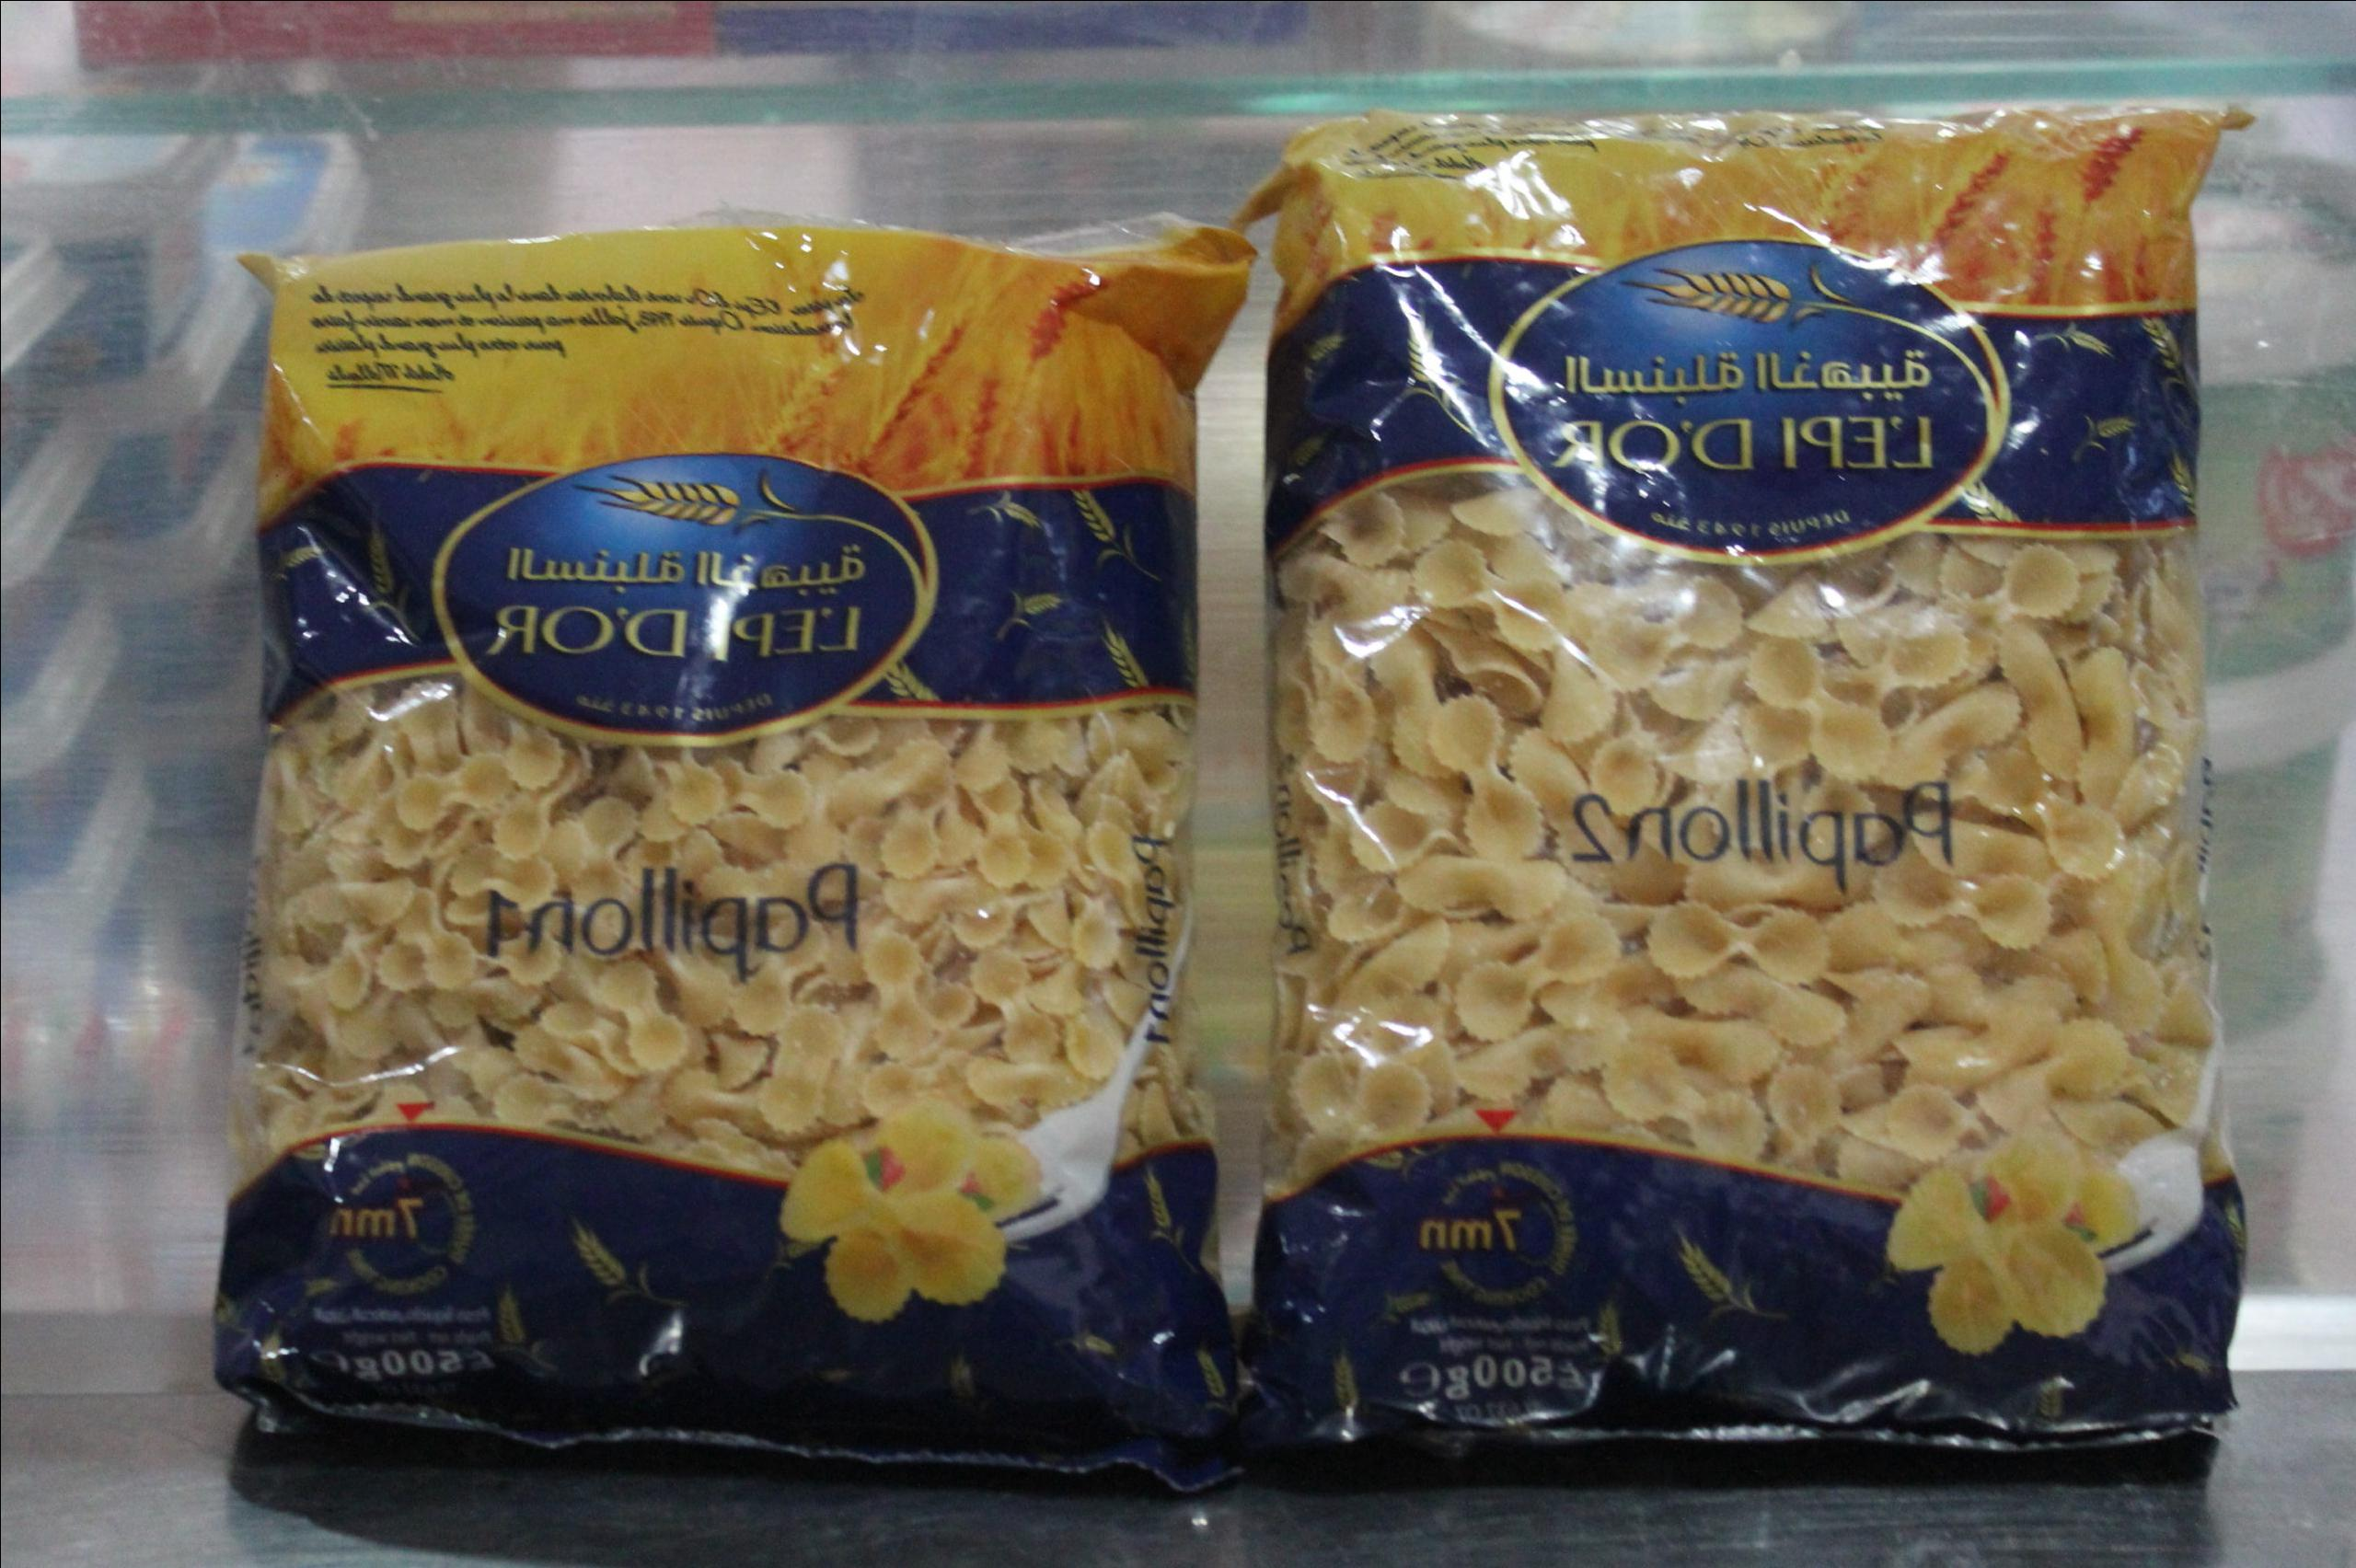Papillon: (1497, 91, 2228, 1165), (663, 177, 1453, 1162)
